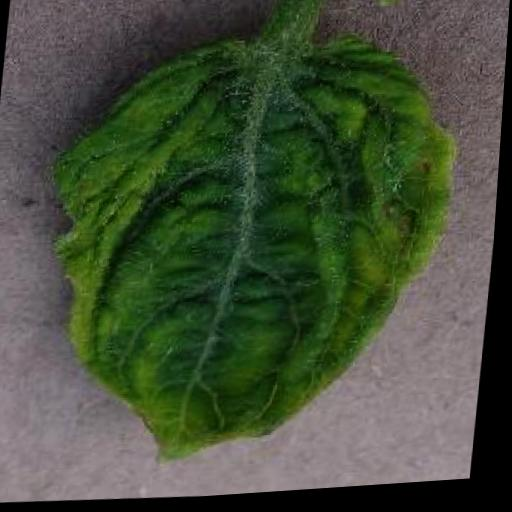Yellow Leaf Curl Virus: (31, 20, 467, 480)
